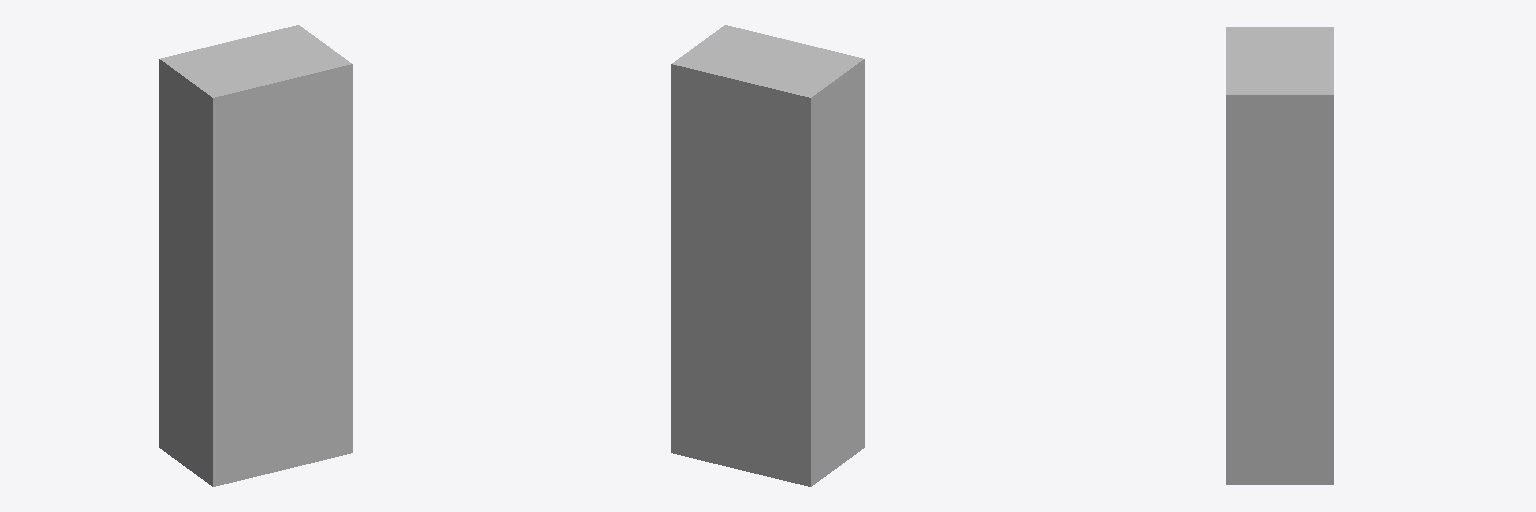
File: lowarm.obj
3 views of the same model, side by side, from view 1: azimuth 30°, elevation 25°; view 2: azimuth 150°, elevation 25°; view 3: azimuth 270°, elevation 25° (orthographic).
Visible parts, largest first — view 1: lowarm-0-playelowarm; view 2: lowarm-0-playelowarm; view 3: lowarm-0-playelowarm.
Part boxes in pixels (x1,y1,x2,y2): lowarm-0-playelowarm: (159, 25, 352, 486); lowarm-0-playelowarm: (671, 25, 864, 486); lowarm-0-playelowarm: (1226, 27, 1333, 484).
Bounding box in the file's own units: 1.5 × 4 × 1.